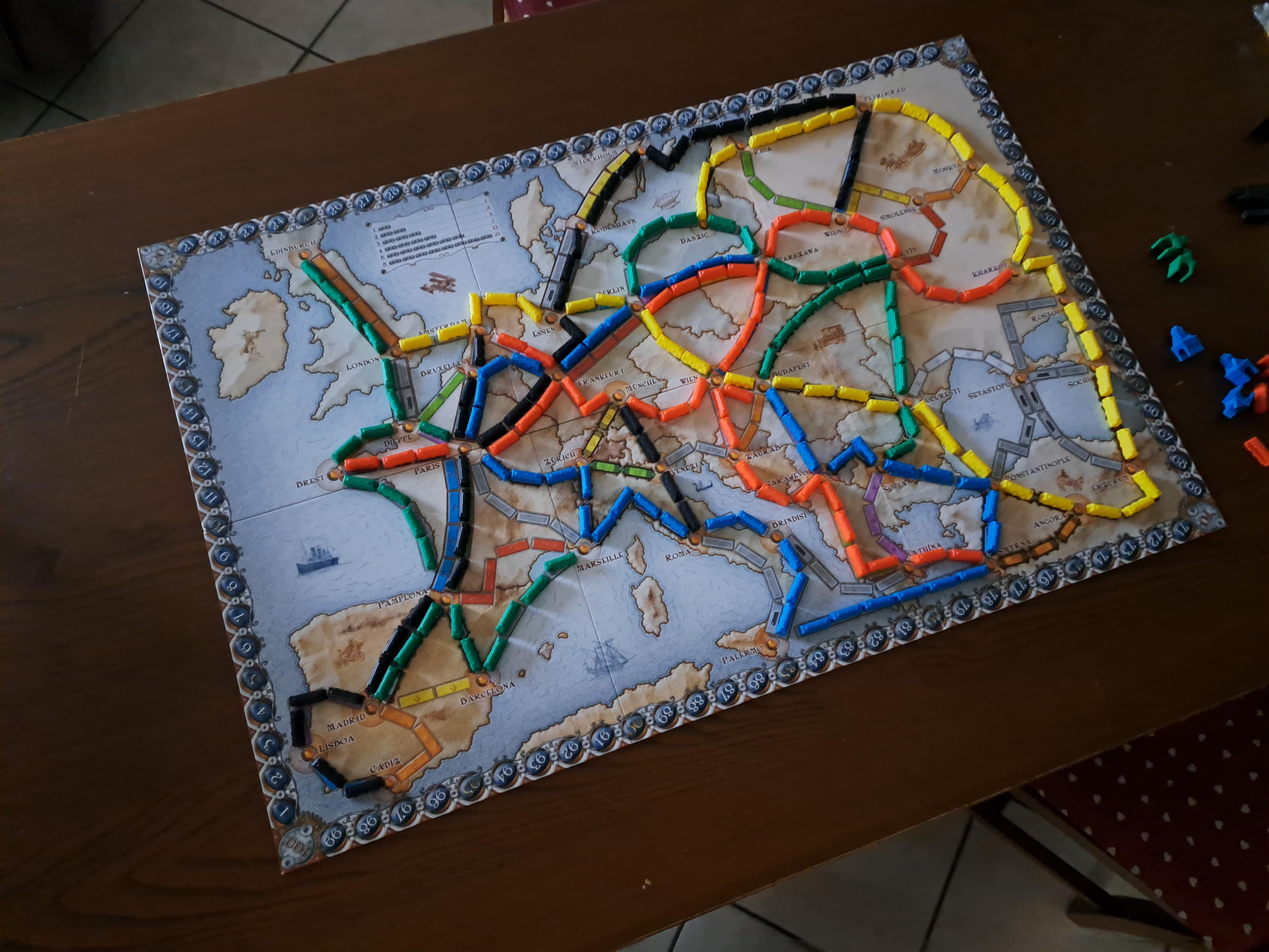corner_bl: (272, 819, 325, 873)
corner_br: (1184, 500, 1227, 536)
corner_tl: (139, 240, 180, 274)
corner_tr: (938, 34, 973, 66)
